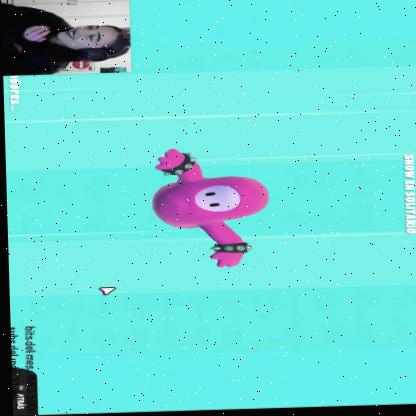streamer: (0, 1, 130, 76)
